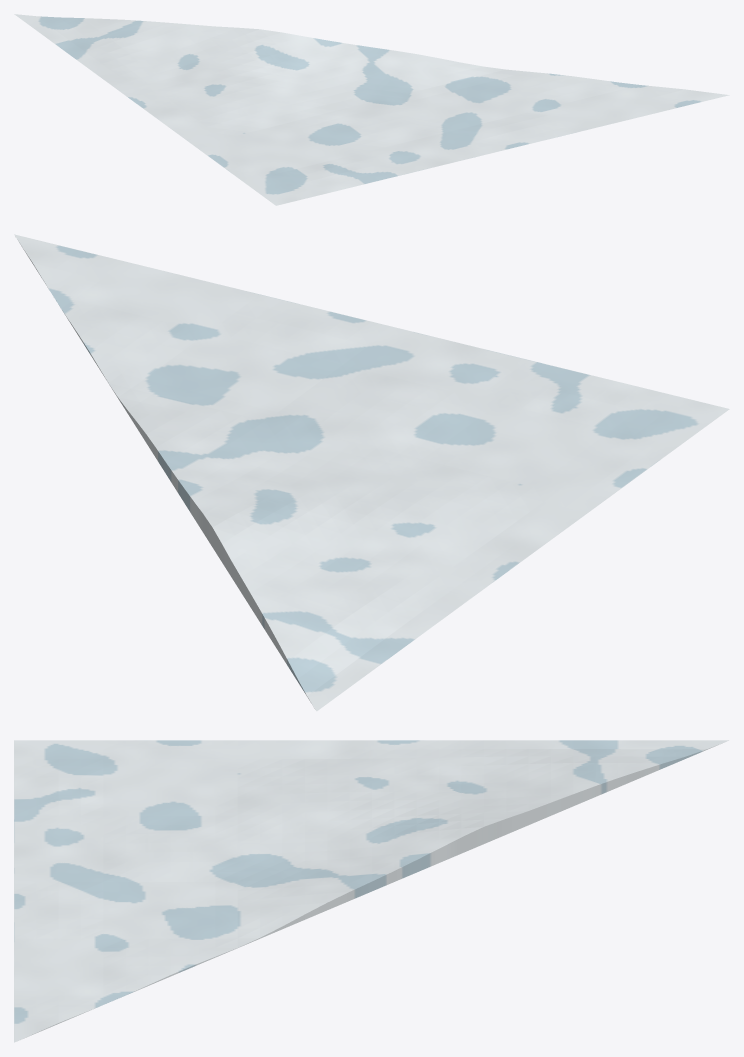
Rendered from Snow_Flat_06_NW.obj.
3 views of the same model, one above another, from view 1: azimuth 30°, elevation 25°; view 2: azimuth 150°, elevation 25°; view 3: azimuth 270°, elevation 25° (orthographic). The views are drawn at different scales.
Bounding box in the file's own units: 10 × 0.2674 × 10.
1 material, 1 textured.
